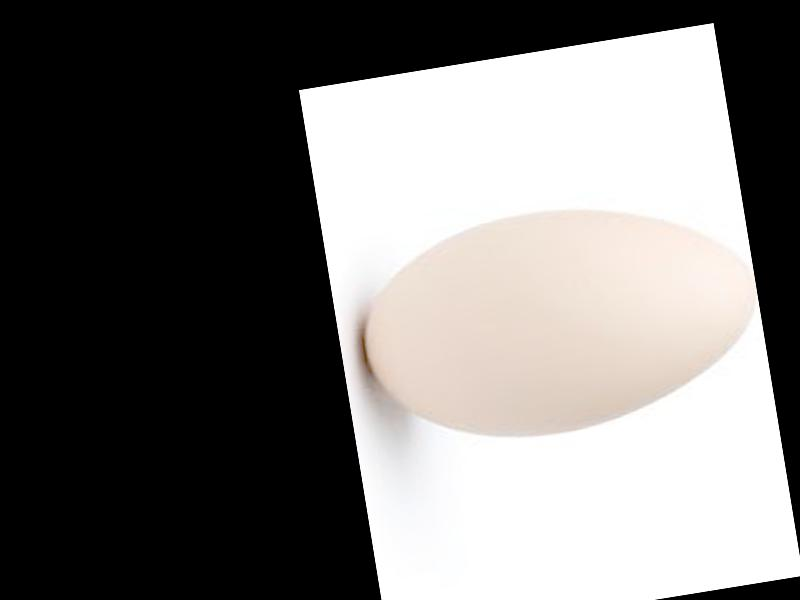Eggs: (346, 182, 771, 461)
